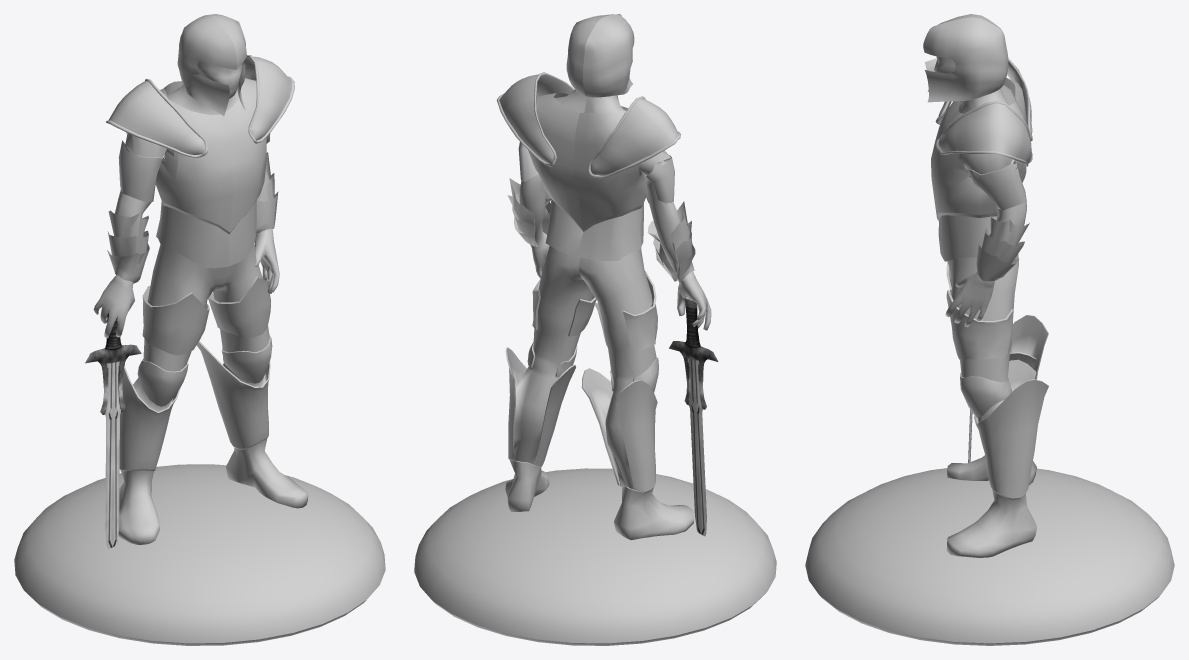
File: SoldierFigurine.FBX
The picture shows the model from 3 angles, left to right: view 1: azimuth 30°, elevation 25°; view 2: azimuth 150°, elevation 25°; view 3: azimuth 270°, elevation 25°; orthographic projection. The views are drawn at different scales.
Parts seen in each view (by area): view 1: Object016, Sphere001, Plane002, Sphere002; view 2: Object016, Sphere001, Plane002, Sphere002; view 3: Sphere001, Object016, Sphere002.
Part boxes in pixels (x1,y1,x2,y2): Object016: (93, 14, 308, 544); Sphere001: (14, 464, 385, 643); Plane002: (85, 313, 141, 548); Sphere002: (26, 592, 366, 645); Object016: (496, 14, 711, 540); Sphere001: (414, 468, 776, 643); Plane002: (669, 296, 718, 536); Sphere002: (433, 593, 765, 645); Sphere001: (805, 468, 1174, 643); Object016: (923, 14, 1048, 557); Sphere002: (820, 596, 1159, 645).
Bounding box in the file's own units: 56.72 × 96.64 × 56.72.
